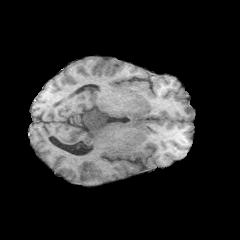glioma: (79, 106, 117, 143)
